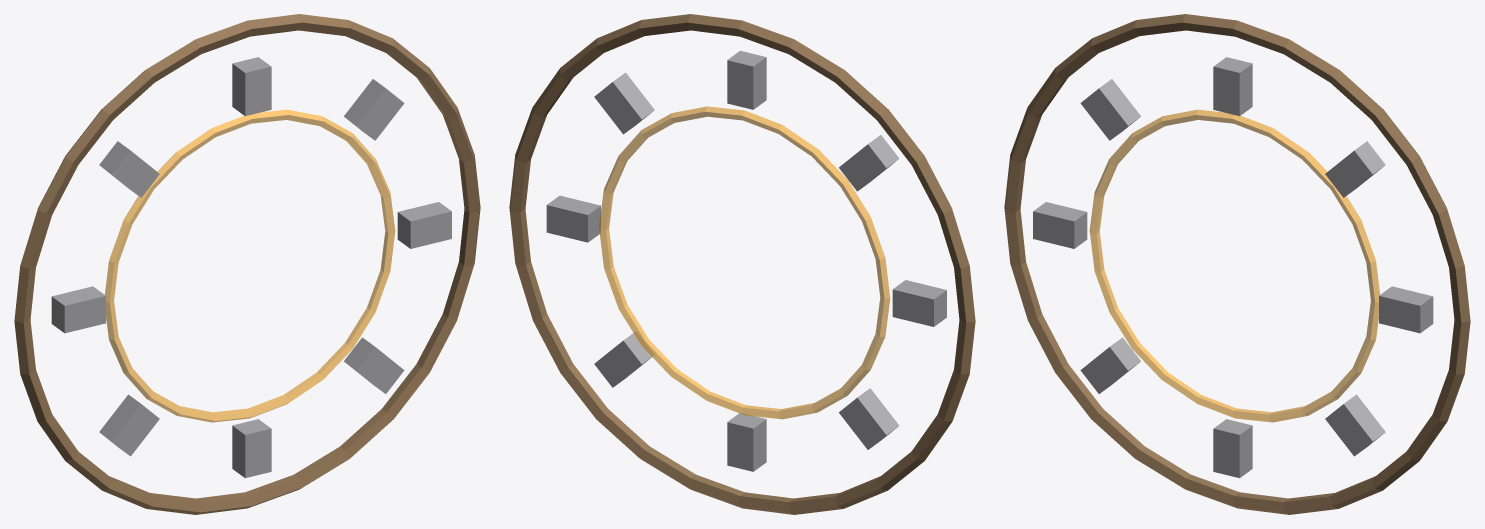
Rendered from vfx_earth_shockwave.glb.
The picture shows the model from 3 angles, left to right: view 1: azimuth 30°, elevation 25°; view 2: azimuth 150°, elevation 25°; view 3: azimuth 330°, elevation 25°; orthographic projection.
Parts seen in each view (by area): view 1: outer, inner, rock_2, rock_6, rock_4, rock_0, rock_5, rock_1, rock_3, rock_7; view 2: outer, inner, rock_2, rock_6, rock_0, rock_4, rock_1, rock_5, rock_3, rock_7; view 3: outer, inner, rock_2, rock_6, rock_0, rock_4, rock_7, rock_3, rock_1, rock_5.
Boxes of the visible parts, bbox=[...] form: outer: bbox=[14, 14, 480, 514]; inner: bbox=[105, 109, 395, 422]; rock_2: bbox=[232, 57, 271, 116]; rock_6: bbox=[232, 419, 271, 478]; rock_4: bbox=[51, 286, 105, 333]; rock_0: bbox=[397, 202, 451, 248]; rock_5: bbox=[99, 394, 159, 456]; rock_1: bbox=[344, 79, 404, 140]; rock_3: bbox=[99, 141, 159, 197]; rock_7: bbox=[344, 337, 404, 393]; outer: bbox=[509, 14, 975, 514]; inner: bbox=[599, 106, 890, 419]; rock_2: bbox=[727, 50, 766, 109]; rock_6: bbox=[727, 413, 766, 471]; rock_0: bbox=[546, 195, 600, 242]; rock_4: bbox=[892, 280, 946, 326]; rock_1: bbox=[594, 72, 654, 134]; rock_5: bbox=[839, 388, 899, 449]; rock_3: bbox=[839, 135, 899, 191]; rock_7: bbox=[594, 331, 654, 387]; outer: bbox=[1004, 14, 1470, 514]; inner: bbox=[1089, 109, 1379, 422]; rock_2: bbox=[1213, 57, 1252, 116]; rock_6: bbox=[1213, 419, 1252, 478]; rock_0: bbox=[1379, 286, 1433, 333]; rock_4: bbox=[1033, 202, 1087, 248]; rock_7: bbox=[1325, 394, 1385, 456]; rock_3: bbox=[1080, 79, 1140, 140]; rock_1: bbox=[1325, 141, 1385, 197]; rock_5: bbox=[1080, 337, 1140, 393].
Bounding box in the file's own units: 2.48 × 2.48 × 0.138.
